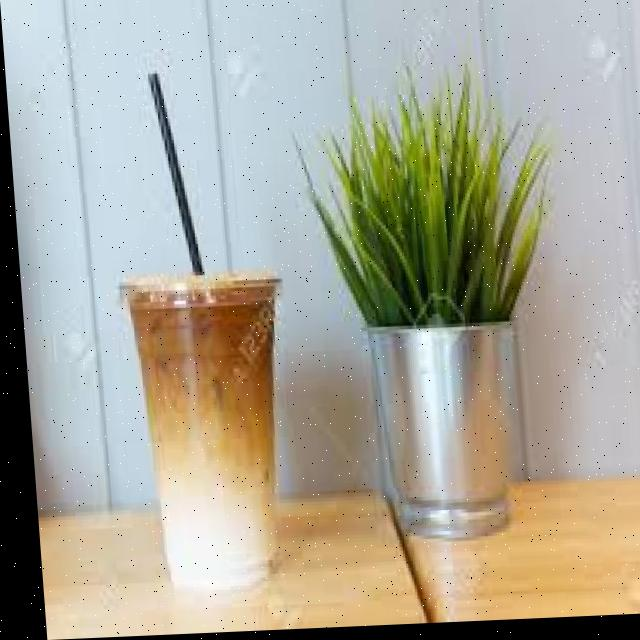cup: (117, 273, 276, 589)
